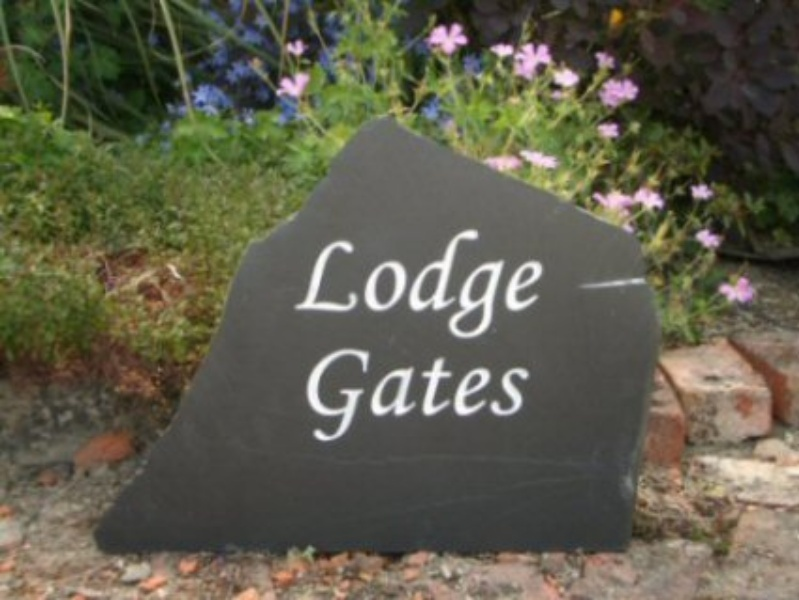text: (305, 230, 320, 341), (321, 230, 336, 341), (337, 230, 352, 341), (353, 230, 368, 341), (369, 230, 384, 341), (385, 230, 400, 341), (401, 230, 416, 341), (417, 230, 432, 341), (433, 230, 448, 341), (449, 230, 464, 341), (465, 230, 480, 341), (481, 230, 496, 341), (497, 230, 512, 341), (513, 230, 528, 341), (529, 230, 544, 341), (513, 348, 529, 443), (305, 348, 320, 443), (321, 348, 336, 443), (337, 348, 352, 443), (353, 348, 368, 443), (369, 348, 384, 443), (385, 348, 400, 443), (401, 348, 416, 443), (417, 348, 432, 443), (433, 348, 448, 443), (449, 348, 464, 443), (465, 348, 480, 443), (481, 348, 496, 443), (497, 348, 512, 443), (294, 230, 304, 341), (545, 230, 546, 341)
